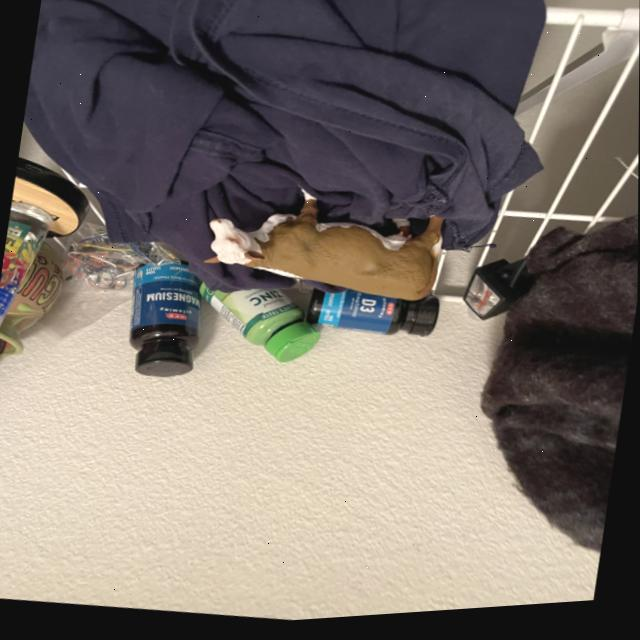cow: (204, 181, 448, 311), (323, 253, 332, 261)
